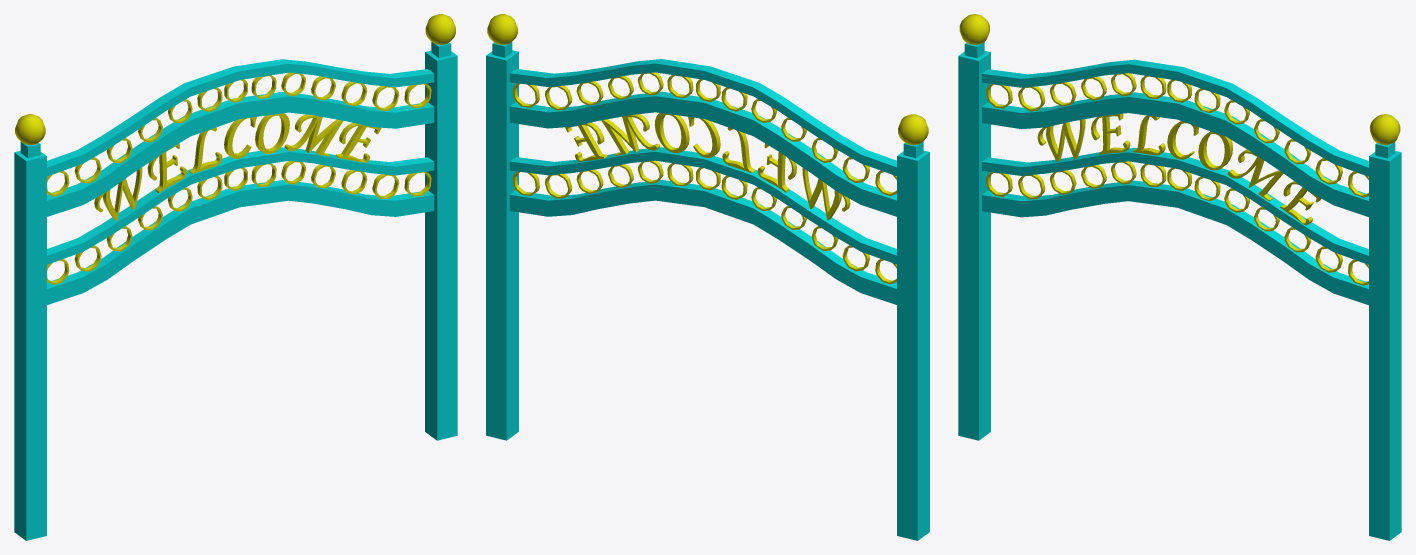
File: Gateway_Entrance.fbx
The picture shows the model from 3 angles, left to right: view 1: azimuth 30°, elevation 25°; view 2: azimuth 150°, elevation 25°; view 3: azimuth 330°, elevation 25°; orthographic projection.
Visible parts, largest first — view 1: Gateway_Entrance; view 2: Gateway_Entrance; view 3: Gateway_Entrance.
Boxes of the visible parts, <box> form: Gateway_Entrance: <box>14,14,457,540</box>; Gateway_Entrance: <box>486,14,929,540</box>; Gateway_Entrance: <box>958,14,1401,540</box>.
Bounding box in the file's own units: 623 × 571 × 37.77.
